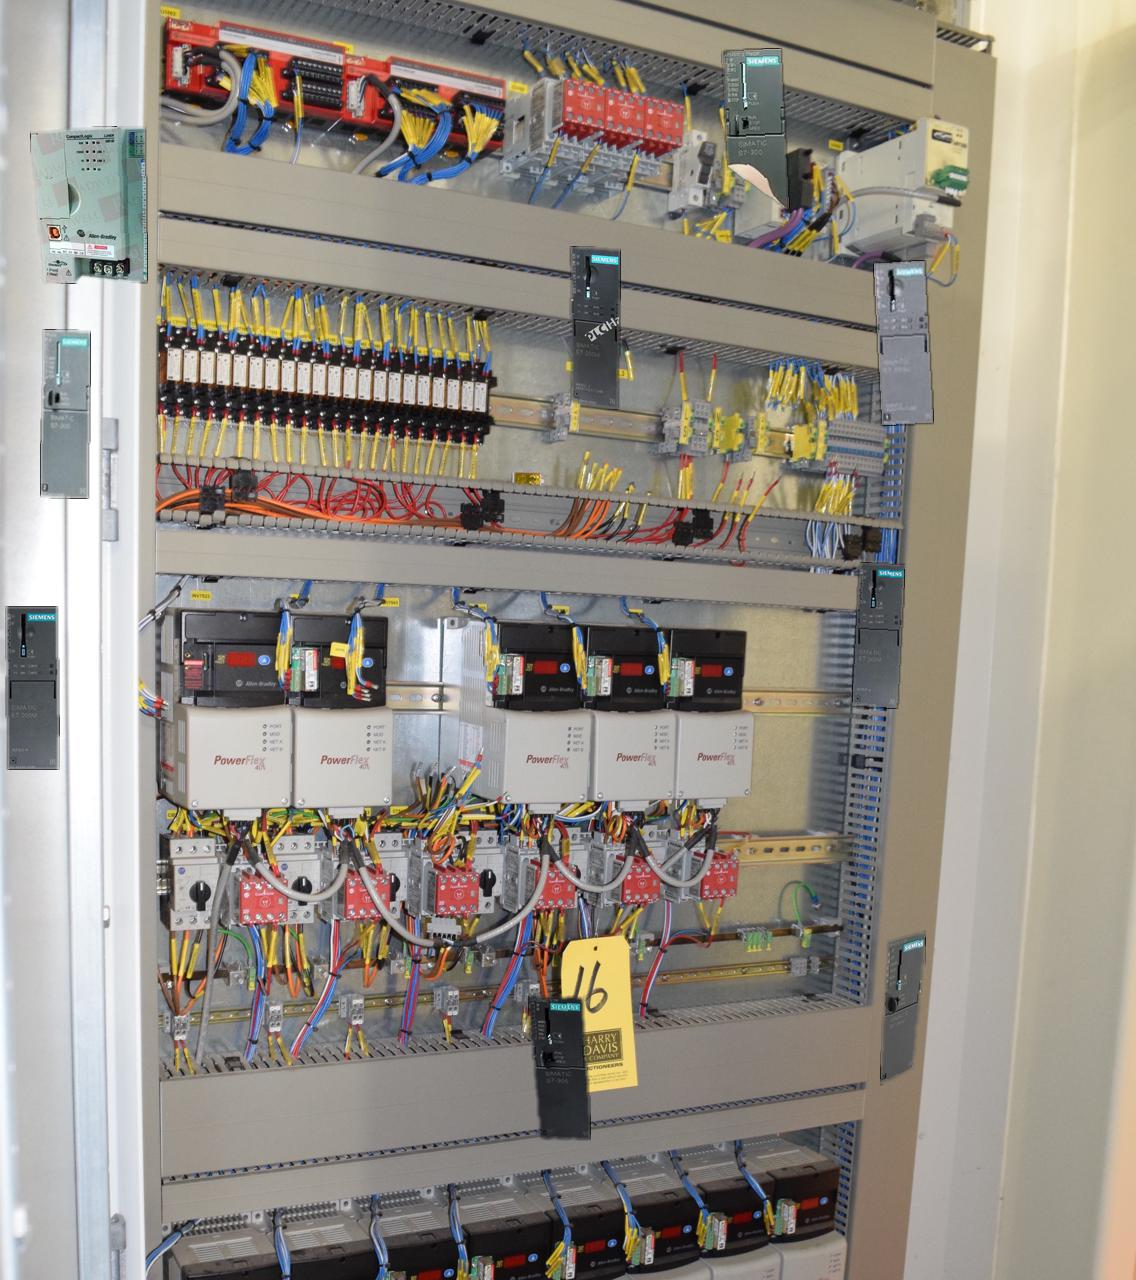AllenBradley: (31, 126, 146, 282)
Siemens: (723, 49, 788, 208), (529, 997, 590, 1139), (41, 330, 89, 497), (881, 932, 925, 1083)
